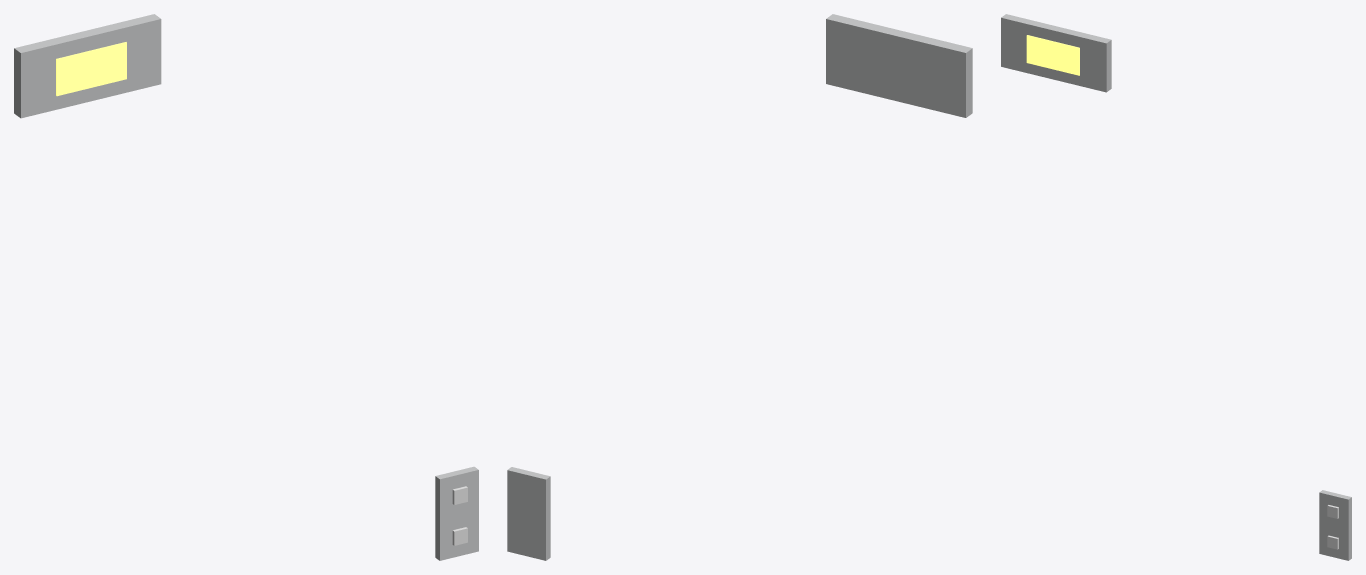
Rendered from ElevatorPanel.fbx.
3 renders of one model, left to right at view 1: azimuth 30°, elevation 25°; view 2: azimuth 150°, elevation 25°; view 3: azimuth 330°, elevation 25°, orthographic. The views are drawn at different scales.
Parts seen in each view (by area): view 1: ElevatorPanel; view 2: ElevatorPanel; view 3: ElevatorPanel.
Part boxes in pixels (x1,y1,x2,y2): ElevatorPanel: (14,14,478,560); ElevatorPanel: (507,14,972,560); ElevatorPanel: (1001,14,1351,560).
Size of the model in its own units: 1.18 by 1.5 by 0.034.
